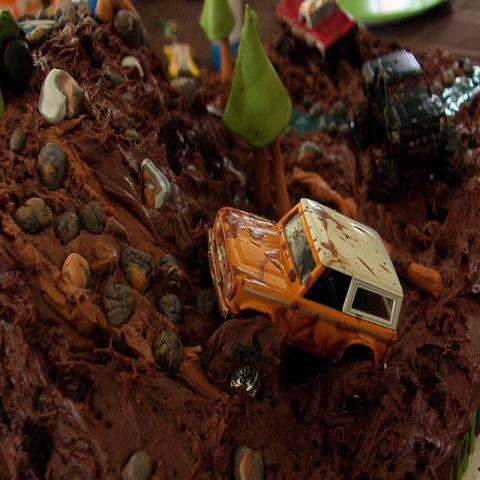car: (206, 198, 403, 368), (364, 47, 448, 158)
truck: (207, 200, 404, 414), (276, 0, 359, 56)
